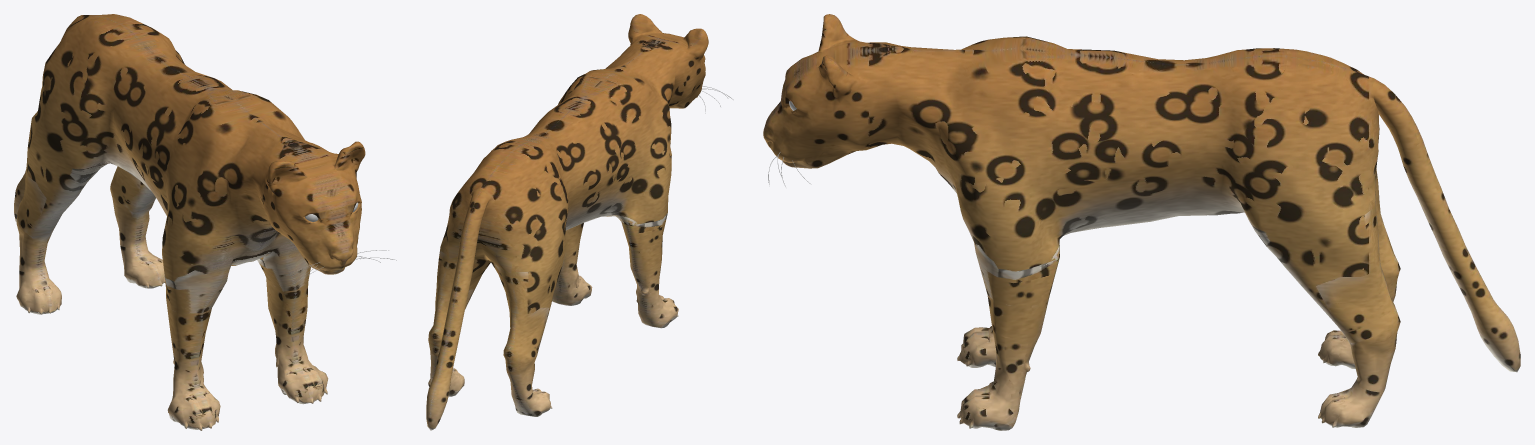
File: ccby-leopard.glb
3 renders of one model, left to right at view 1: azimuth 30°, elevation 25°; view 2: azimuth 150°, elevation 25°; view 3: azimuth 270°, elevation 25°, orthographic. The views are drawn at different scales.
Parts seen in each view (by area): view 1: Object_11; view 2: Object_11; view 3: Object_11.
Boxes of the visible parts, x1,y1,x2,y2 form: Object_11: [14, 14, 365, 430]; Object_11: [426, 14, 708, 430]; Object_11: [763, 14, 1520, 430].
Bounding box in the file's own units: 0.67 × 1.3 × 2.5.
4 materials, 2 textured.
